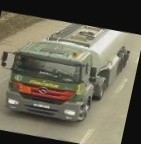truck: (0, 9, 141, 134)
